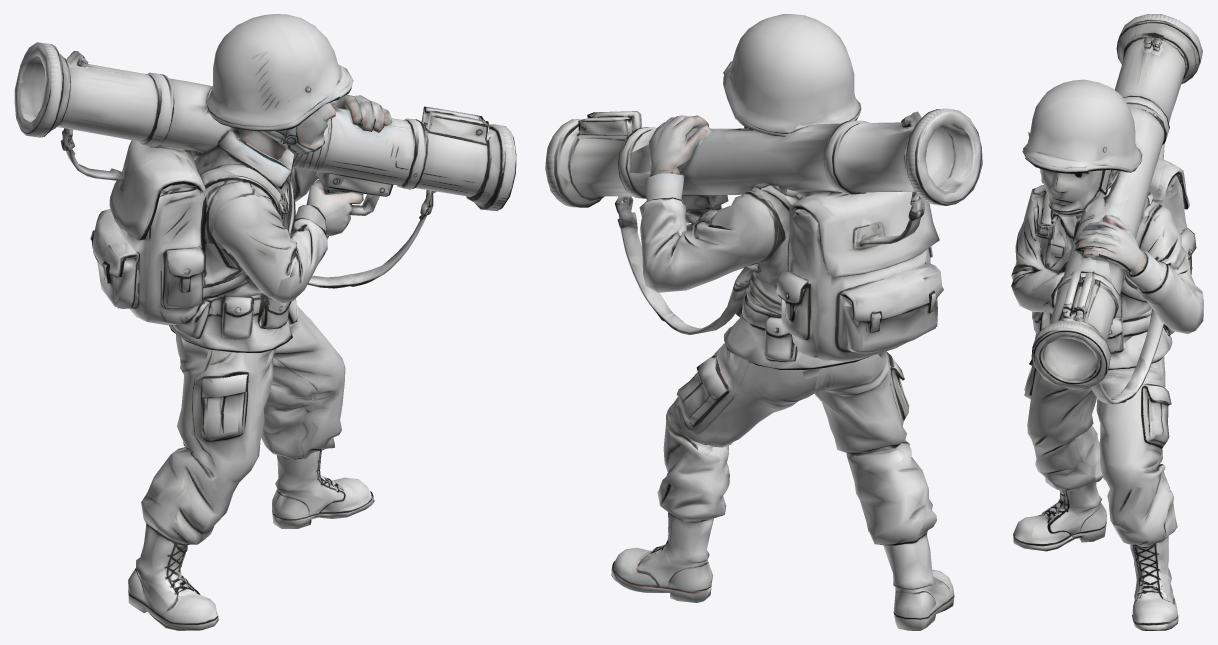
3 views of the same model, side by side, from view 1: azimuth 30°, elevation 25°; view 2: azimuth 150°, elevation 25°; view 3: azimuth 270°, elevation 25° (orthographic). The views are drawn at different scales.
Parts seen in each view (by area): view 1: tripo_part_0, tripo_part_1, tripo_part_3, tripo_part_5, tripo_part_4, tripo_part_2, tripo_part_14, tripo_part_10, tripo_part_7, tripo_part_11, tripo_part_15, tripo_part_13 (+5 smaller); view 2: tripo_part_0, tripo_part_1, tripo_part_4, tripo_part_3, tripo_part_5, tripo_part_9, tripo_part_7, tripo_part_10, tripo_part_12, tripo_part_16, tripo_part_2, tripo_part_15 (+2 smaller); view 3: tripo_part_0, tripo_part_4, tripo_part_5, tripo_part_3, tripo_part_9, tripo_part_10, tripo_part_2, tripo_part_7, tripo_part_16, tripo_part_6, tripo_part_1, tripo_part_13 (+4 smaller).
Boxes of the visible parts, x1,y1,x2,y2 form: tripo_part_0: [14, 42, 516, 210]; tripo_part_1: [60, 128, 206, 326]; tripo_part_3: [141, 334, 275, 544]; tripo_part_5: [206, 14, 353, 131]; tripo_part_4: [261, 305, 345, 459]; tripo_part_2: [184, 129, 297, 301]; tripo_part_14: [212, 194, 296, 299]; tripo_part_10: [128, 524, 218, 630]; tripo_part_7: [272, 450, 374, 528]; tripo_part_11: [173, 292, 291, 339]; tripo_part_15: [168, 299, 297, 359]; tripo_part_13: [270, 204, 327, 302]; tripo_part_0: [545, 108, 982, 207]; tripo_part_1: [776, 189, 943, 361]; tripo_part_4: [657, 343, 828, 521]; tripo_part_3: [814, 351, 936, 545]; tripo_part_5: [723, 14, 861, 137]; tripo_part_9: [639, 167, 776, 292]; tripo_part_7: [611, 512, 713, 602]; tripo_part_10: [883, 531, 954, 630]; tripo_part_12: [615, 196, 762, 334]; tripo_part_16: [629, 115, 711, 176]; tripo_part_2: [745, 183, 791, 315]; tripo_part_15: [724, 317, 886, 378]; tripo_part_0: [1031, 14, 1202, 389]; tripo_part_4: [1096, 356, 1177, 548]; tripo_part_5: [1022, 79, 1142, 173]; tripo_part_3: [1024, 359, 1102, 490]; tripo_part_9: [1126, 206, 1203, 334]; tripo_part_10: [1013, 482, 1106, 551]; tripo_part_2: [1031, 185, 1162, 321]; tripo_part_7: [1130, 536, 1178, 630]; tripo_part_16: [1073, 215, 1146, 294]; tripo_part_6: [1040, 169, 1118, 218]; tripo_part_1: [1148, 143, 1196, 274]; tripo_part_13: [1011, 271, 1064, 313].
Size of the model in its own units: 0.8272 by 1 by 0.346.
Materials: 18 (18 with a texture image).
